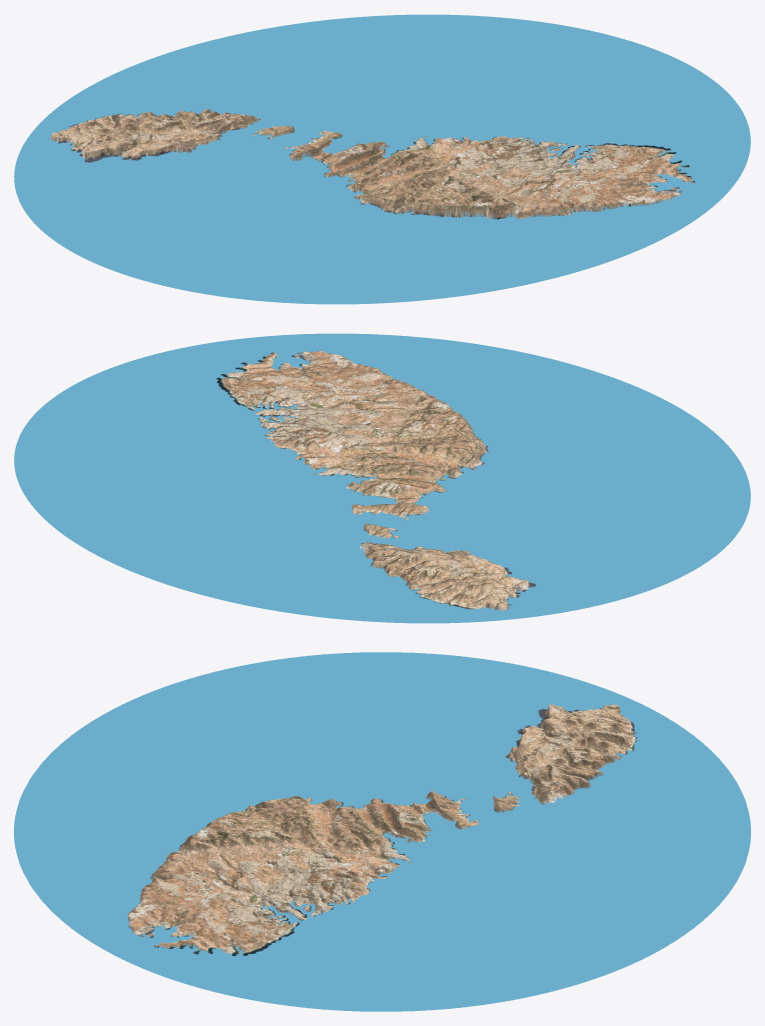
Rendered from MLT-previa-terrain.glb.
3 renders of one model, top to bottom at view 1: azimuth 30°, elevation 25°; view 2: azimuth 150°, elevation 25°; view 3: azimuth 270°, elevation 25°, orthographic. The views are drawn at different scales.
Visible parts, largest first — view 1: Malta; view 2: Malta; view 3: Malta.
Part boxes in pixels (bbox=[...]): Malta: bbox=[14, 14, 750, 304]; Malta: bbox=[14, 333, 750, 623]; Malta: bbox=[14, 652, 750, 1011].
Size of the model in its own units: 2.54 by 0.0378 by 2.2.
1 material, 1 textured.
